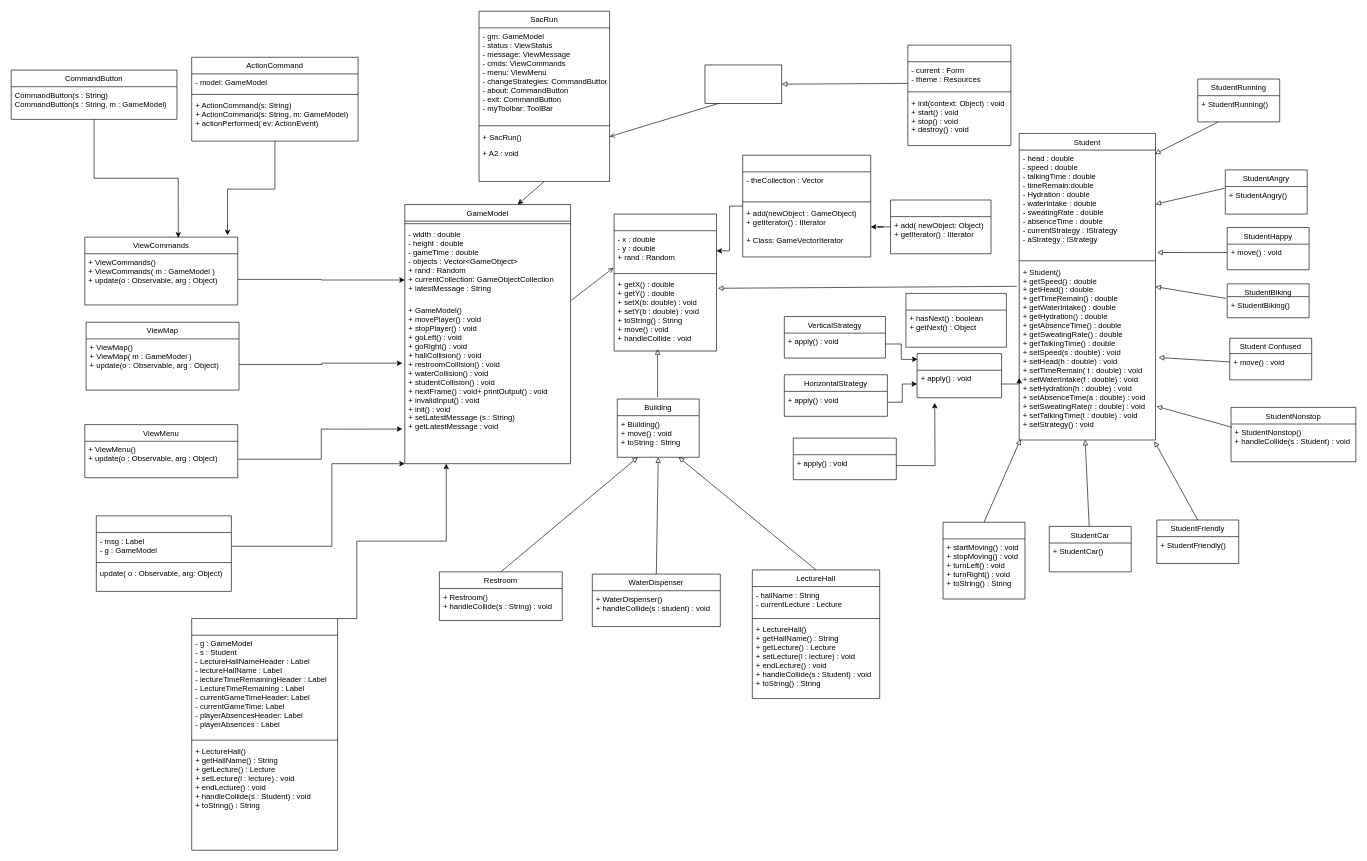
Image size: 1367x861. Some labels were removed from this diagram. The box of each missing label's shape, as (x1, y1, x2, y2) in pixels:
Form: (704, 64, 782, 103)
GameObject: (613, 213, 716, 351)
GameObjectCollection: (742, 155, 871, 257)
ICollection: (890, 199, 991, 254)
IIterator: (905, 293, 1006, 347)
IStrategy: (916, 353, 1002, 398)
RandomStrategy: (793, 437, 896, 480)
StartClass: (907, 44, 1011, 146)
StudentPlayer: (942, 522, 1025, 599)
ViewMessage: (96, 515, 231, 591)
ViewStatus: (191, 618, 338, 850)
